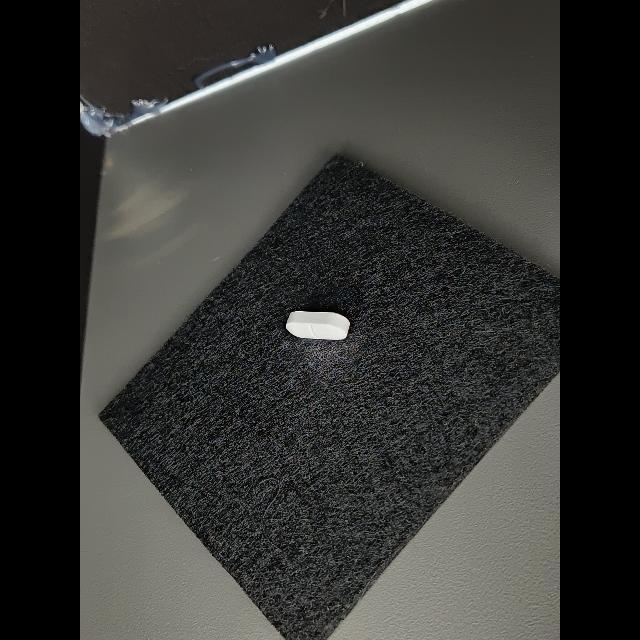Intact Pill: (286, 311, 350, 340)
